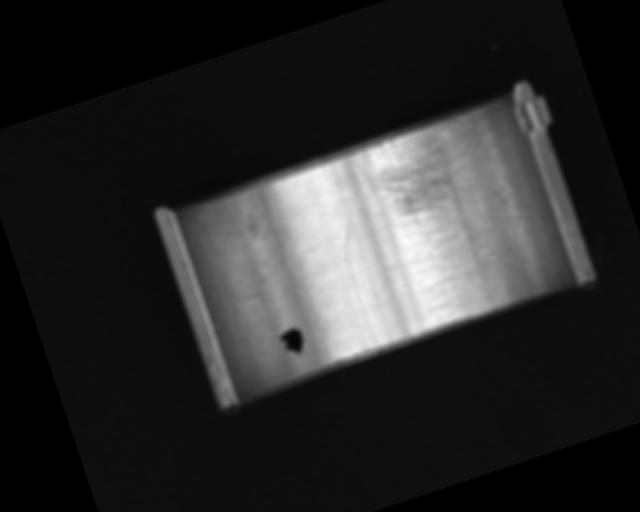blot: (277, 324, 310, 364)
bruise: (240, 209, 263, 239)
nick: (333, 221, 391, 351)
scratch: (347, 110, 492, 239)
